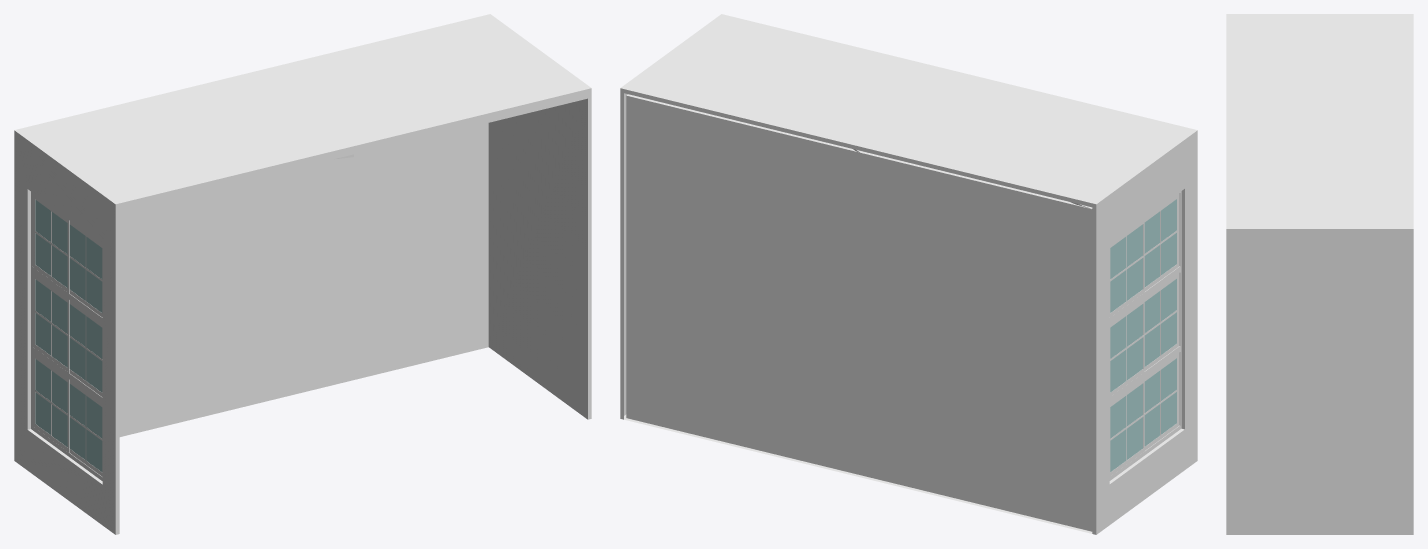
The model's file is room05.obj.
3 renders of one model, left to right at view 1: azimuth 30°, elevation 25°; view 2: azimuth 150°, elevation 25°; view 3: azimuth 270°, elevation 25°, orthographic. The views are drawn at different scales.
Parts seen in each view (by area): view 1: room05; view 2: room05; view 3: room05.
Boxes of the visible parts, bbox=[...] form: room05: bbox=[14, 14, 591, 534]; room05: bbox=[620, 14, 1197, 534]; room05: bbox=[1226, 14, 1413, 534].
Bounding box in the file's own units: 366 × 243 × 135.
